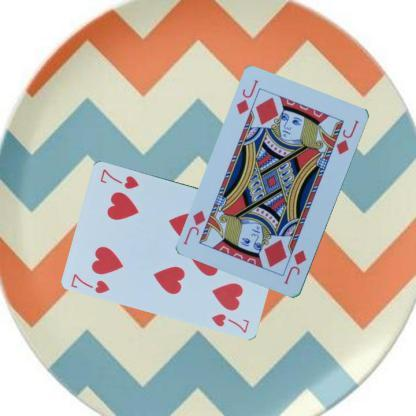7h: (69, 271, 111, 295)
Jd: (233, 76, 260, 116), (281, 247, 308, 286)
